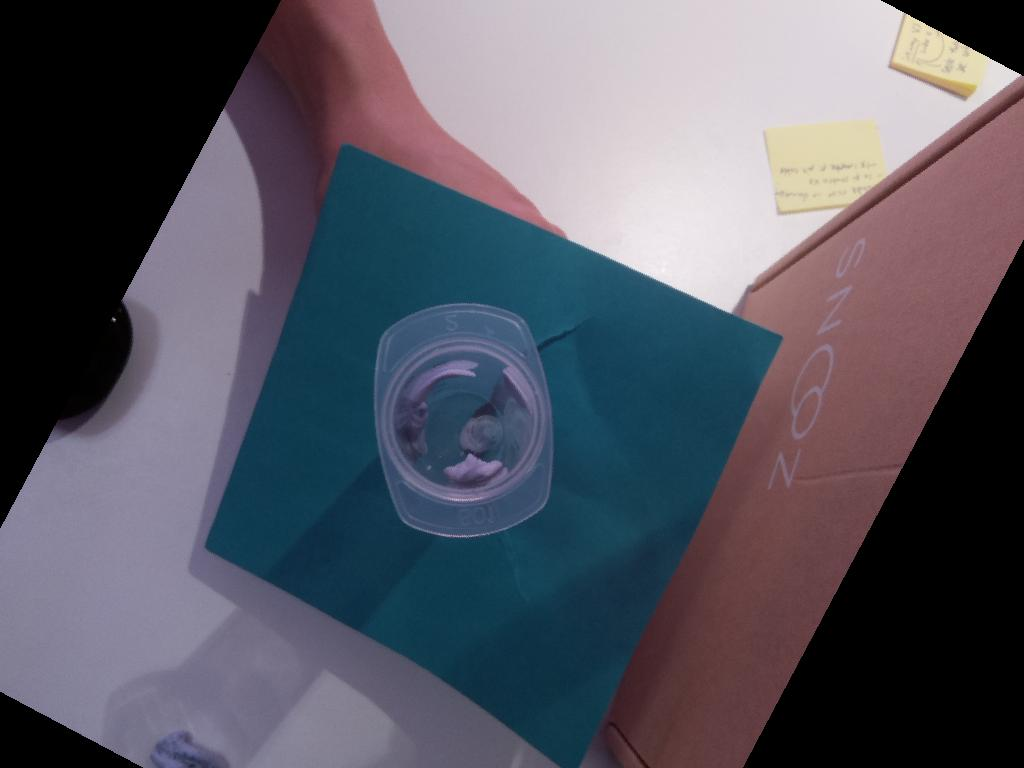dirty: (369, 300, 554, 541)
